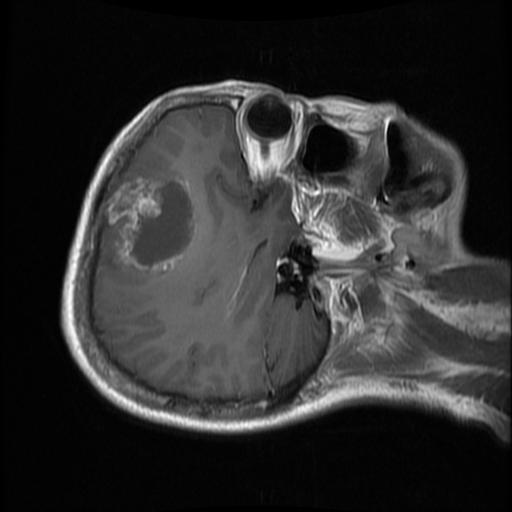glioma: (108, 179, 194, 268)
